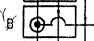Single Phase Tap-Off Unit: (17, 2, 78, 39)
